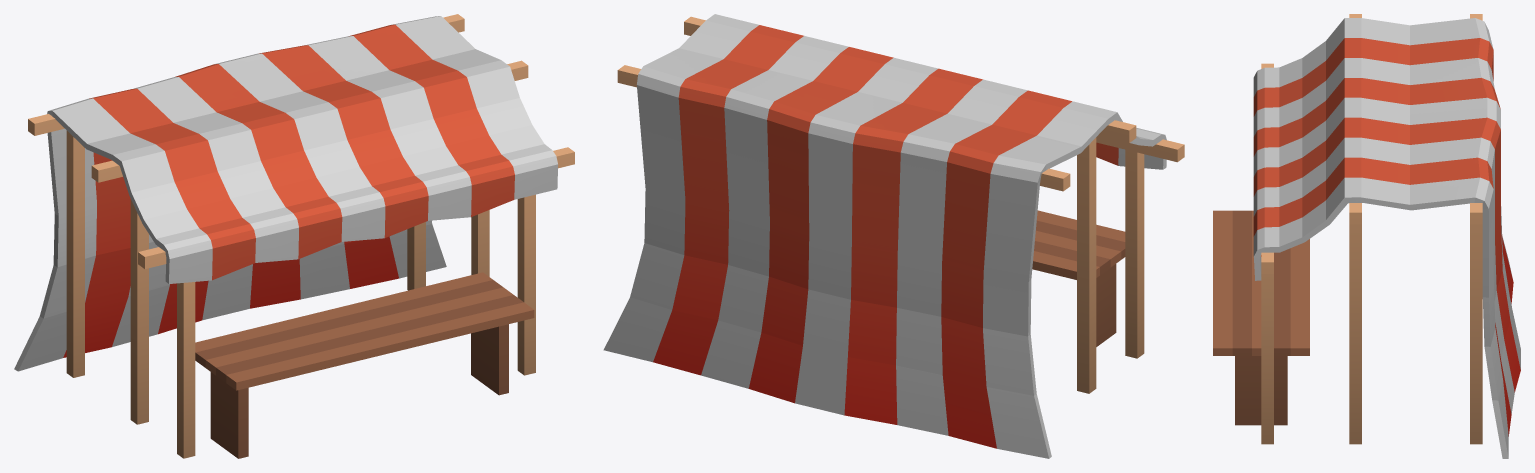
The model's file is market-stall-2.glb.
The picture shows the model from 3 angles, left to right: view 1: azimuth 30°, elevation 25°; view 2: azimuth 150°, elevation 25°; view 3: azimuth 270°, elevation 25°; orthographic projection. The views are drawn at different scales.
Parts seen in each view (by area): view 1: food_tent_4; view 2: food_tent_4; view 3: food_tent_4.
Boxes of the visible parts, <box> form: food_tent_4: <box>14,14,574,458</box>; food_tent_4: <box>603,14,1184,458</box>; food_tent_4: <box>1213,14,1520,458</box>.
Bounding box in the file's own units: 4.67 × 2.79 × 3.05.
Materials: 1 (1 with a texture image).
